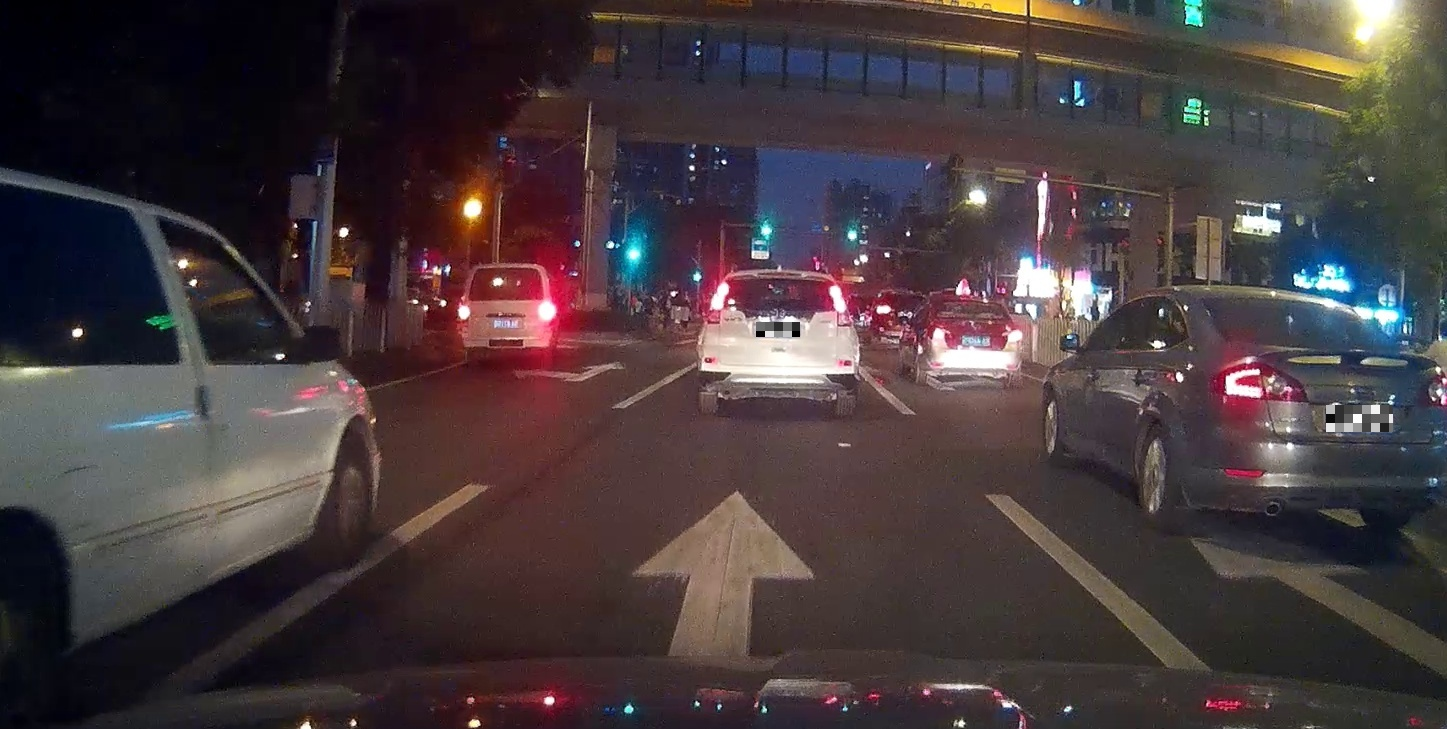L_light: (1216, 362, 1309, 402), (705, 280, 731, 323), (459, 304, 472, 321), (932, 327, 947, 340)
R_light: (827, 282, 855, 327), (1420, 371, 1447, 406), (539, 305, 556, 319), (1007, 329, 1023, 342)
T_light: (1276, 299, 1318, 310), (963, 301, 985, 308), (769, 279, 794, 284), (495, 268, 516, 273)
night-no: (1185, 287, 1447, 532), (697, 270, 860, 416), (456, 262, 558, 368), (929, 296, 1023, 388)
plate_1: (756, 322, 800, 337)
plate_2: (1326, 405, 1393, 432)
